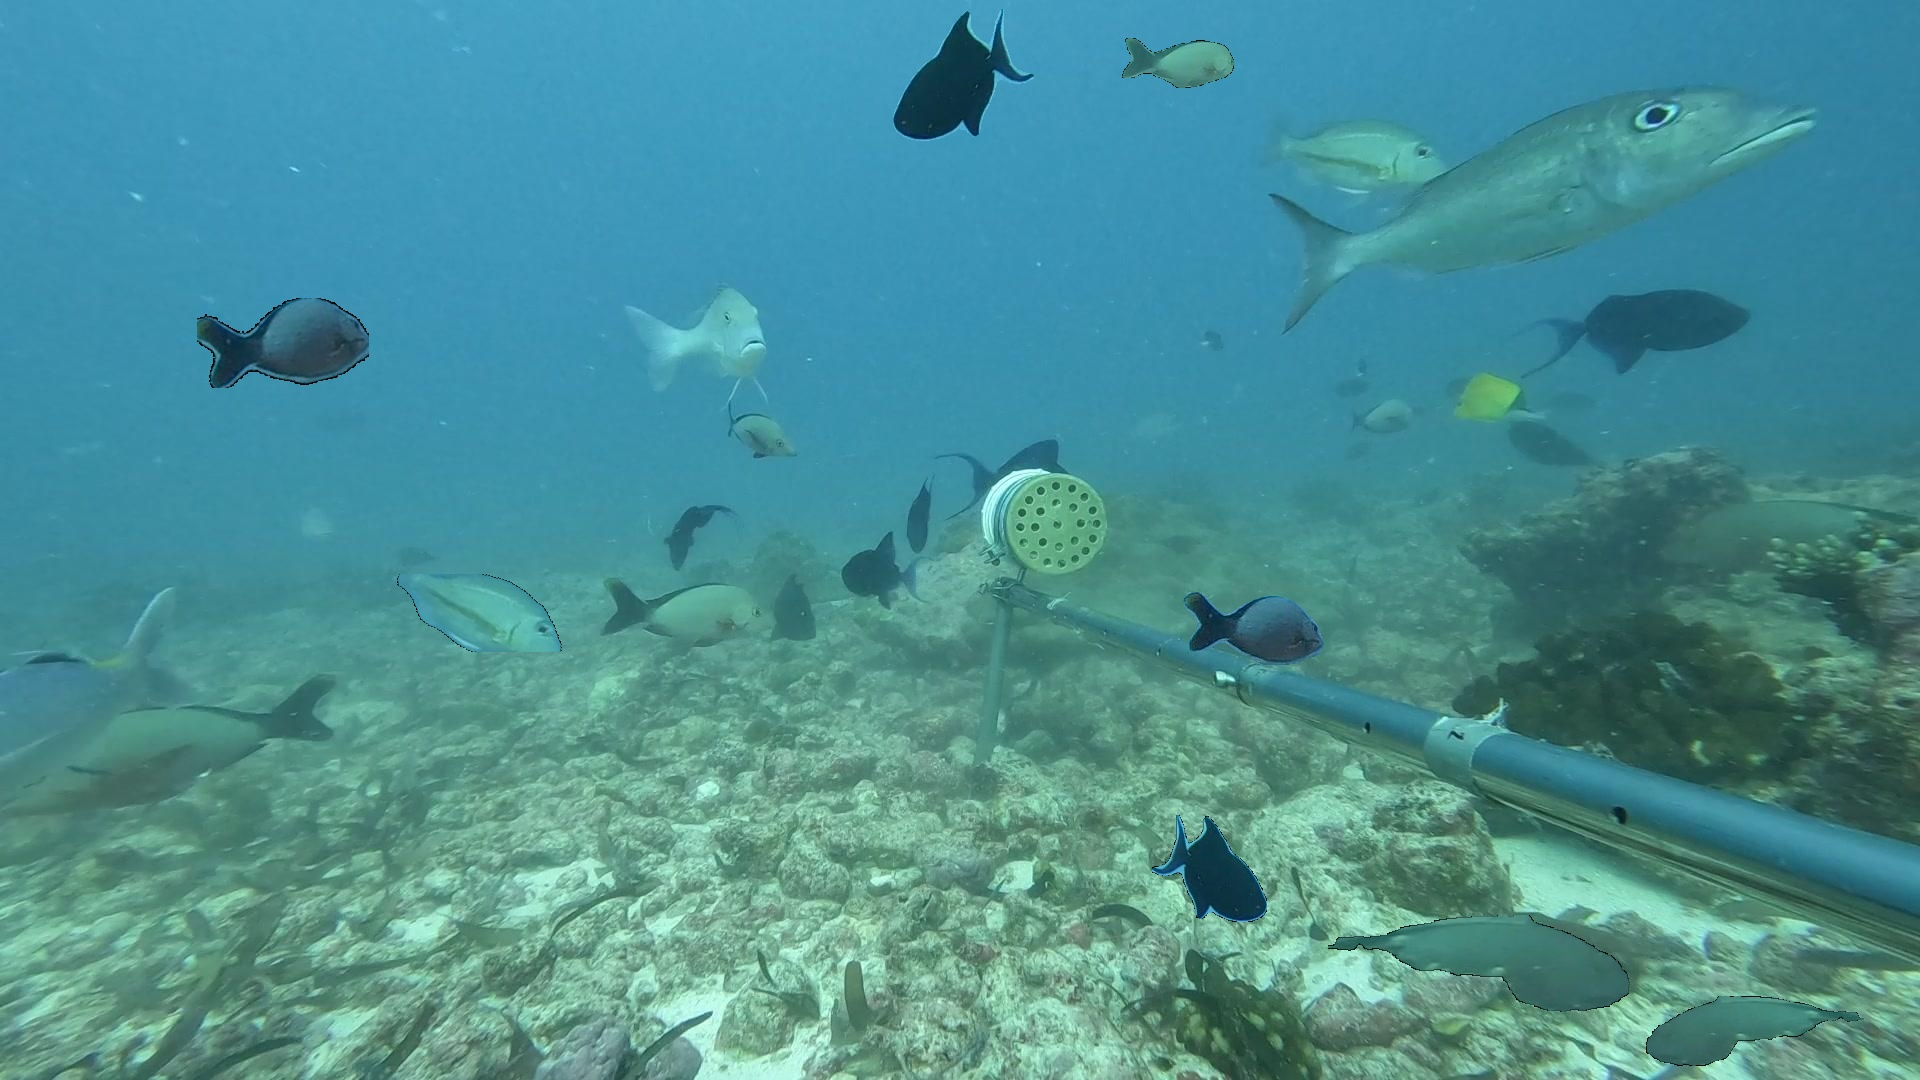fish: (1258, 33, 1834, 356), (0, 671, 353, 811), (0, 579, 189, 828), (1526, 256, 1763, 400), (1328, 915, 1630, 1011), (1655, 488, 1920, 585), (616, 265, 785, 410), (1249, 91, 1443, 193), (893, 9, 1034, 141), (591, 568, 778, 662), (196, 298, 369, 388), (1646, 996, 1865, 1065), (392, 574, 568, 651), (1153, 815, 1267, 922), (935, 434, 1075, 518), (1183, 591, 1324, 665), (836, 522, 931, 613), (716, 389, 806, 473), (650, 492, 733, 572), (1503, 414, 1609, 475), (1122, 38, 1234, 88), (1444, 365, 1528, 429), (767, 564, 823, 649), (1346, 392, 1419, 444), (903, 468, 939, 554)
